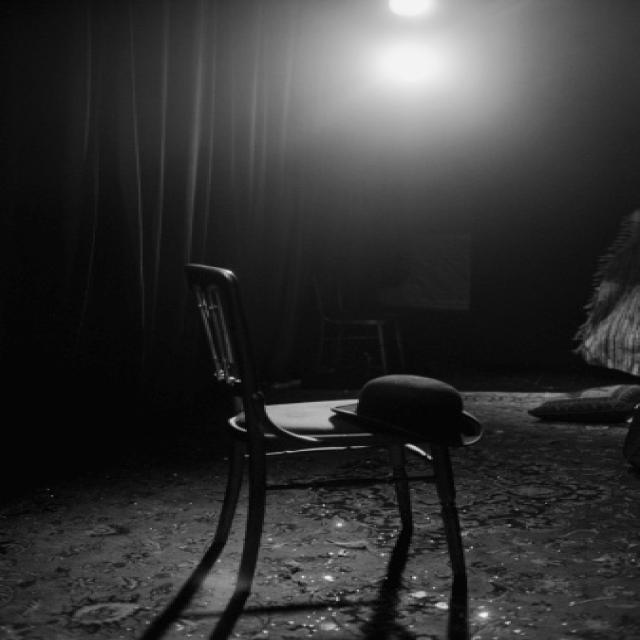chair: (140, 242, 491, 640), (289, 232, 435, 365)
